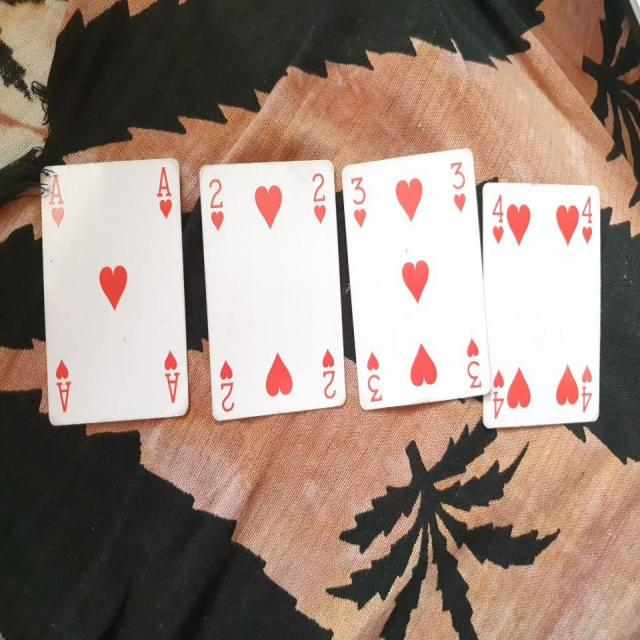2 Hearts: (196, 153, 345, 430)
3 Hearts: (344, 145, 494, 428)
4 Hearts: (477, 174, 605, 438)
A Hearts: (31, 148, 195, 434)
